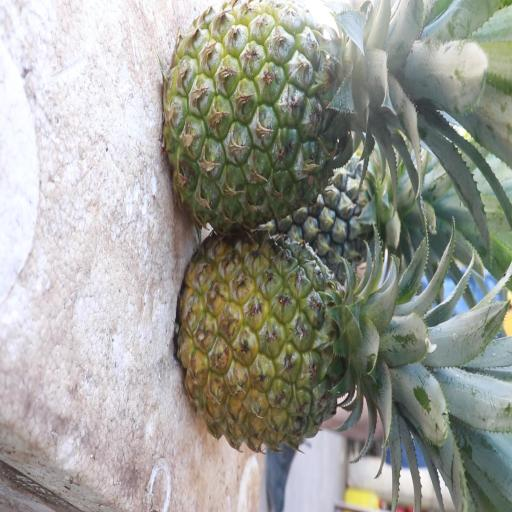------------------------------: (166, 2, 371, 230)
Pineapple - v8 v1: (188, 238, 386, 440)
